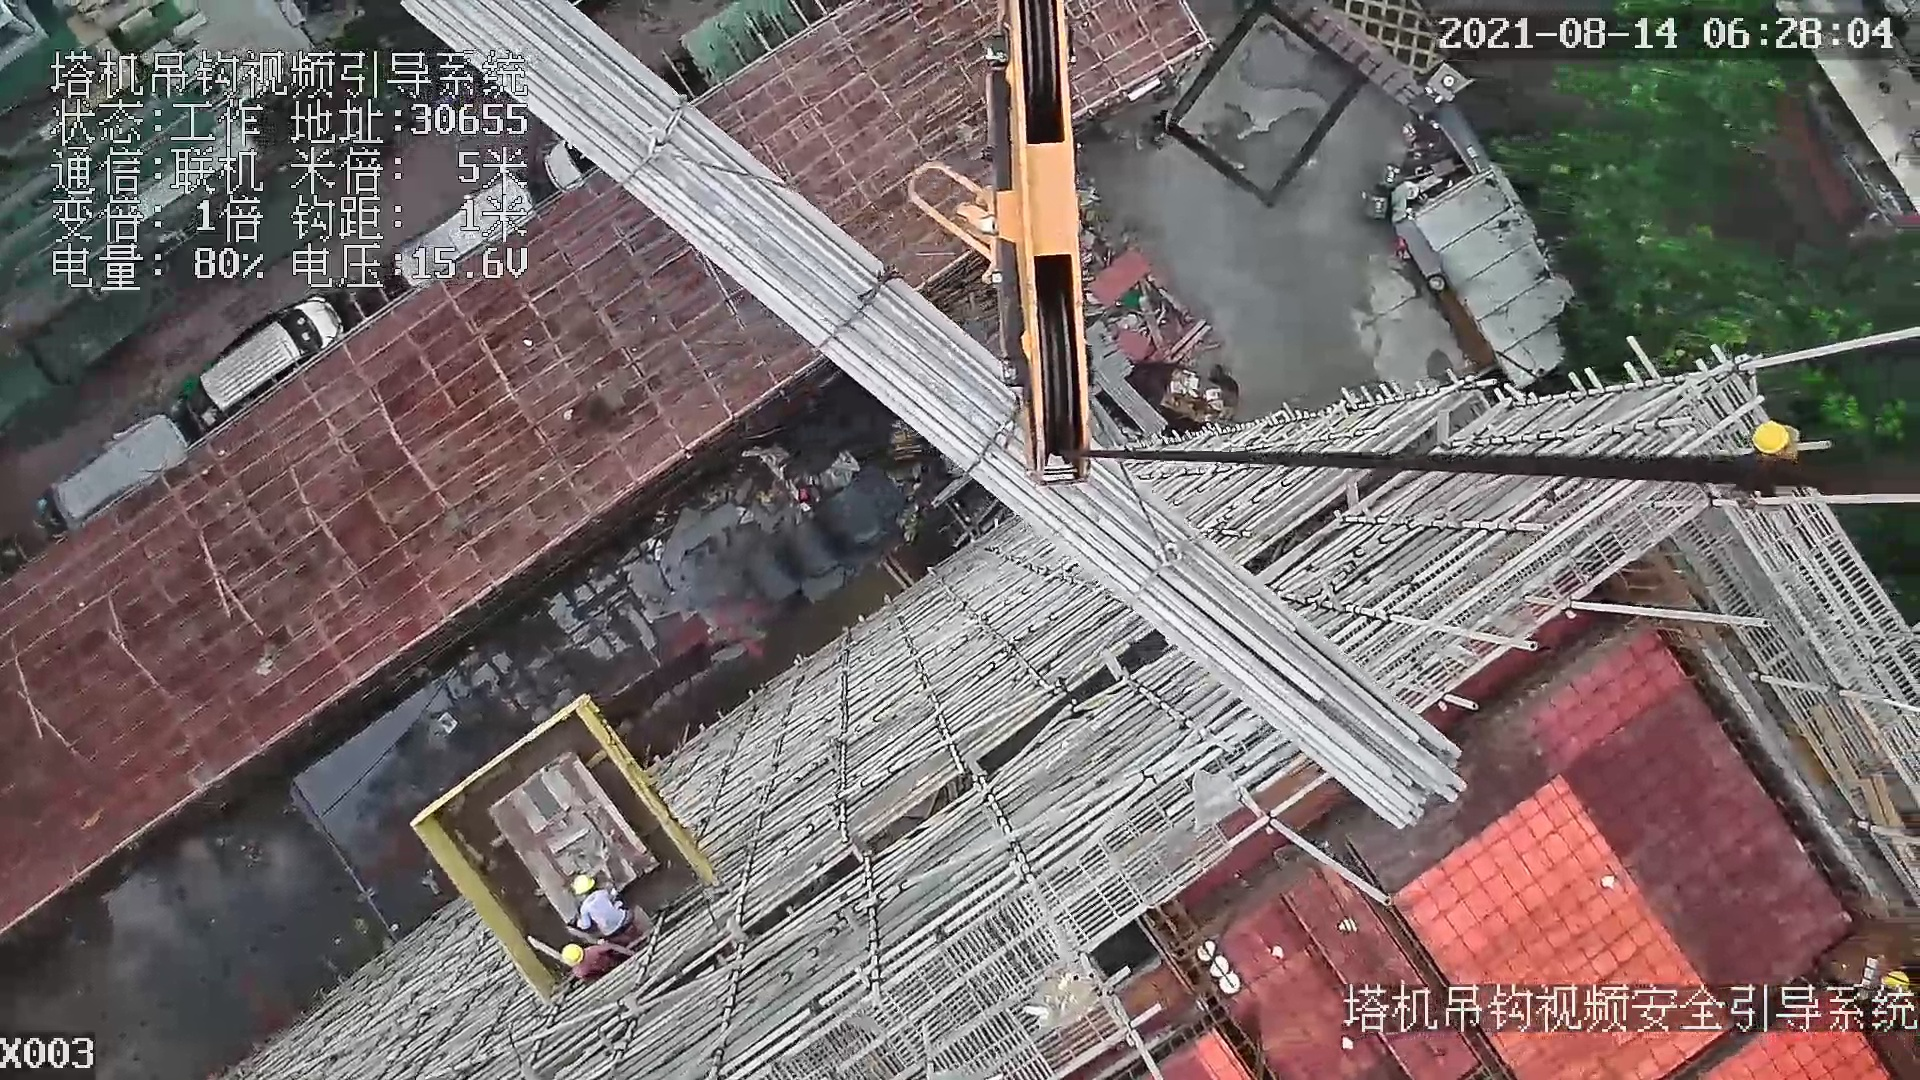helmet: (1748, 420, 1790, 459), (558, 939, 597, 974), (565, 874, 607, 890)
hook: (985, 1, 1092, 489)
person: (556, 873, 635, 933), (546, 942, 637, 981), (1751, 421, 1815, 471)
